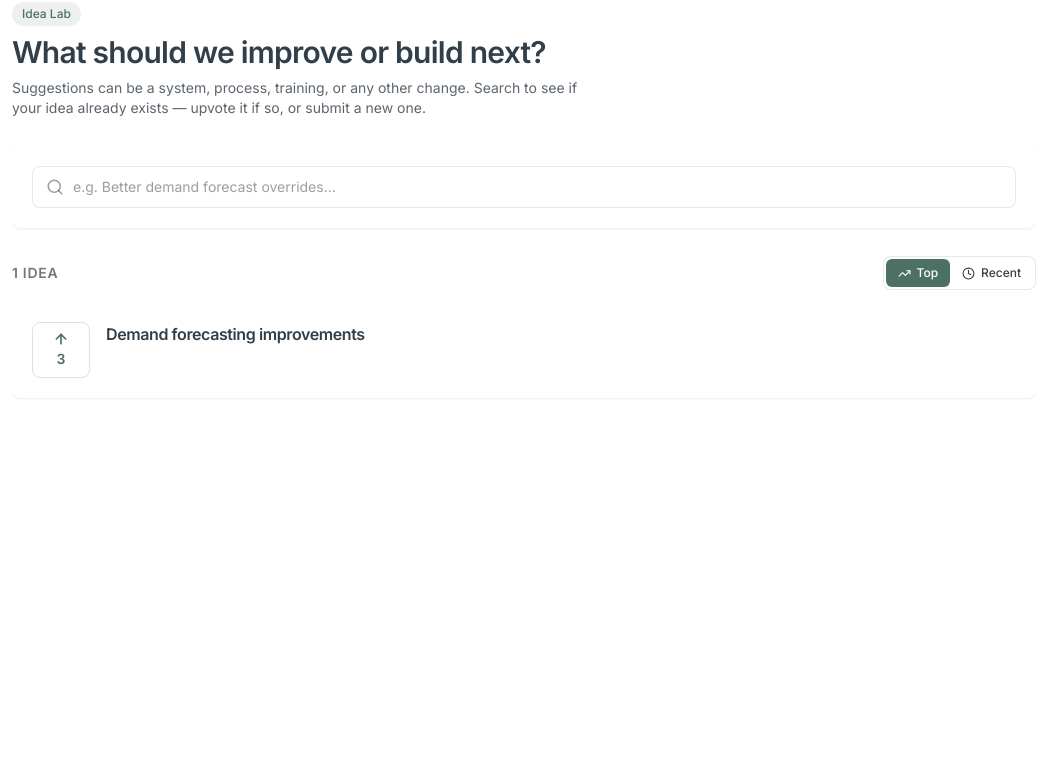
Test: Ideas › C11 — partial match shows similar ideas panel
Type "demand" into the field with placeholder "e.g. Better demand forecast overrides…" at (524, 187), box x1=32 y1=166 x2=1016 y2=208
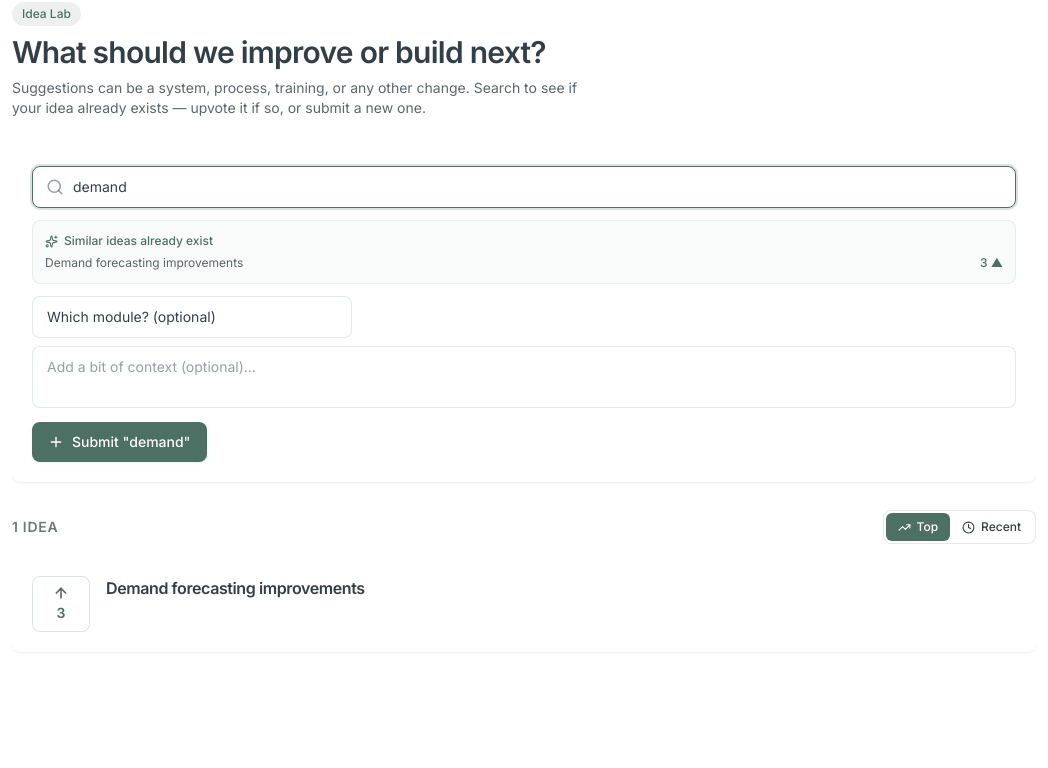
Check: the text "Similar ideas already exist" is shown, box x1=45 y1=233 x2=213 y2=248
